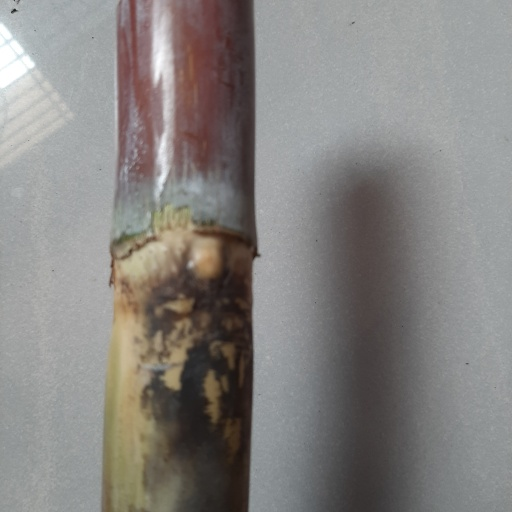Bud: (184, 237, 225, 281)
